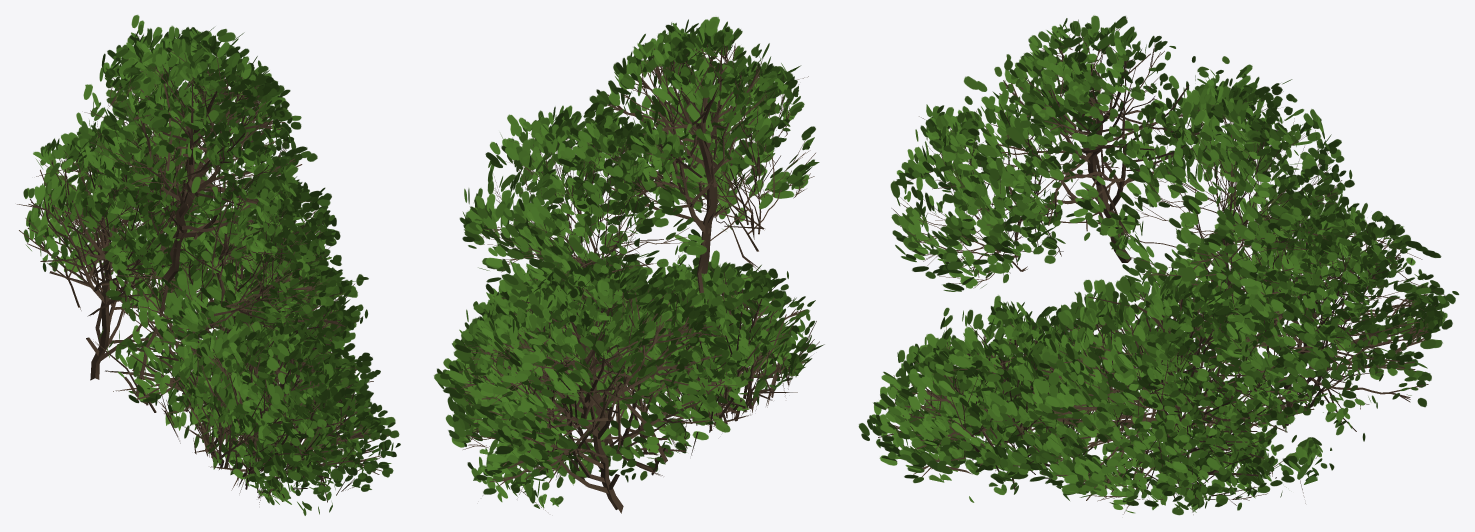
The picture shows the model from 3 angles, left to right: view 1: azimuth 30°, elevation 25°; view 2: azimuth 150°, elevation 25°; view 3: azimuth 270°, elevation 25°; orthographic projection. The views are drawn at different scales.
Visible parts, largest first — view 1: oak 01.001_trunk_Mat.001_0.288; view 2: oak 01.001_trunk_Mat.001_0.288; view 3: oak 01.001_trunk_Mat.001_0.288.
Part boxes in pixels (x1,y1,x2,y2): oak 01.001_trunk_Mat.001_0.288: [17, 14, 400, 515]; oak 01.001_trunk_Mat.001_0.288: [434, 17, 824, 513]; oak 01.001_trunk_Mat.001_0.288: [858, 15, 1459, 515].
Size of the model in its own units: 2.27 by 3.87 by 4.82.
2 materials, 1 textured.
